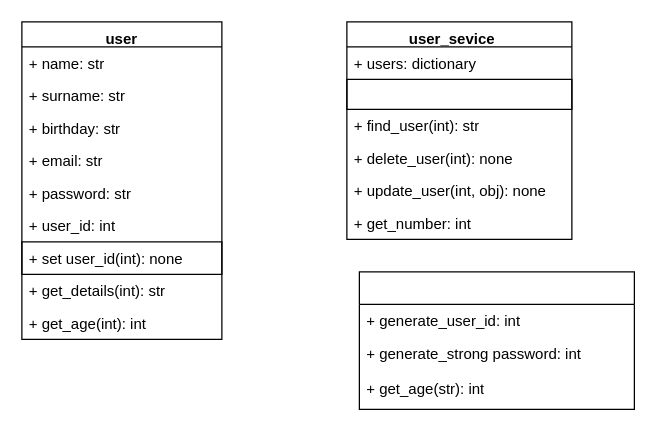
Some shapes in this 656 by 435 pixel diagram are drawn without their labels. The box of each missing label's shape, as (x1, y1, x2, y2) in pixels:
+ add_user(object): none: (346, 78, 572, 109)
user_utils: (358, 271, 634, 409)
